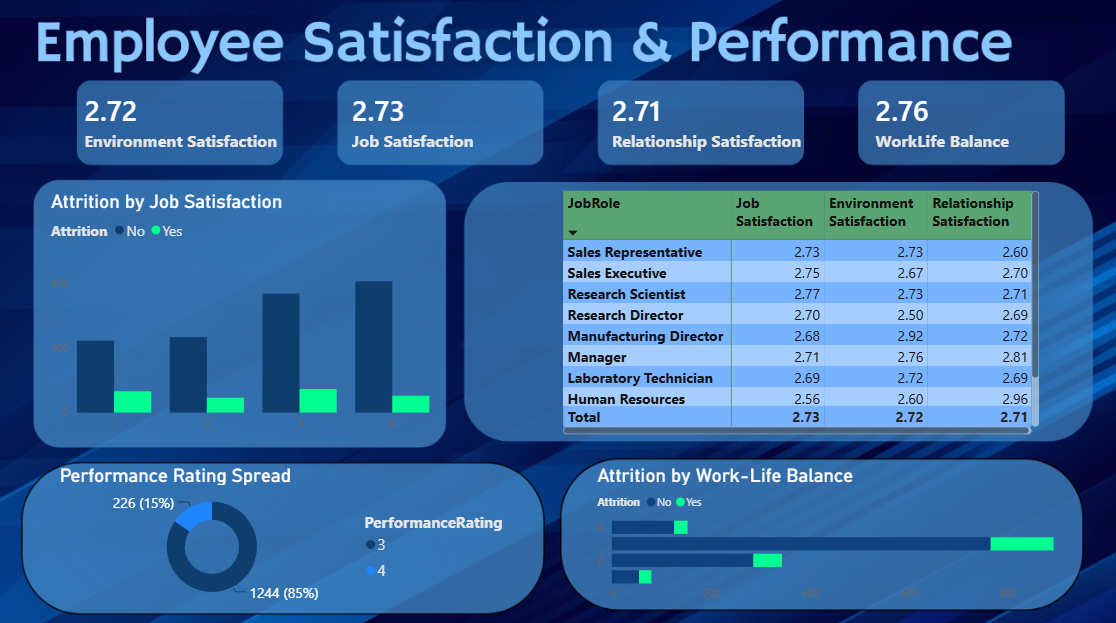

What the dashboard file says about the page in this screenshot:
{"tool":"powerbi","page":{"name":"Satisfaction","canvas":[1280,720],"ordinal":3},"visuals":[{"type":"cardVisual","fields":{"Data":["ibm_data dim_employee.Avg Job Satisfaction"]},"box":[374.3,0,280,280],"z":0},{"type":"cardVisual","fields":{"Data":["Avg(ibm_data fact_satisfaction.EnvironmentSatisfaction)"]},"box":[68.7,0,293.3,280],"z":1000},{"type":"cardVisual","fields":{"Data":["Avg(ibm_data fact_satisfaction.RelationshipSatisfaction)"]},"box":[671.4,64.3,280,150],"z":2000},{"type":"cardVisual","fields":{"Data":["Avg(ibm_data fact_satisfaction.WorkLifeBalance)"]},"box":[972.9,0,280,280],"z":3000},{"type":"pivotTable","fields":{"Rows":["ibm_data dim_job_role.JobRole"],"Values":["Avg(ibm_data fact_satisfaction.JobSatisfaction)","Avg(ibm_data fact_satisfaction.EnvironmentSatisfaction)","Avg(ibm_data fact_satisfaction.RelationshipSatisfaction)"]},"box":[640,214,554,288],"z":4000},{"type":"clusteredColumnChart","title":"Attrition by Job Satisfaction","fields":{"Category":["ibm_data fact_satisfaction.JobSatisfaction"],"Y":["ibm_data dim_employee.Total Employees"],"Series":["ibm_data fact_tenure.Attrition"]},"box":[54.3,218.6,442.9,284.3],"z":5000},{"type":"donutChart","title":"Performance Rating Spread","fields":{"Category":["ibm_data fact_satisfaction.PerformanceRating"],"Y":["ibm_data dim_employee.Total Employees"]},"box":[64.3,531.4,521.4,165.7],"z":6000},{"type":"barChart","title":"Attrition by Work-Life Balance","fields":{"Category":["ibm_data fact_satisfaction.WorkLifeBalance"],"Series":["ibm_data fact_tenure.Attrition"],"Y":["ibm_data dim_employee.Total Employees"]},"box":[678.6,531.4,545.7,165.7],"z":7000}]}

Visuals, with their boxes in screenshot pixels (x1, y1, x2, y2), scaled from the page's 1280x720 canvas onto the 1116x623 screenshot:
cardVisual - ibm_data dim_employee.Avg Job Satisfaction: rect(326, 0, 570, 242)
cardVisual - Avg(ibm_data fact_satisfaction.EnvironmentSatisfaction): rect(60, 0, 316, 242)
cardVisual - Avg(ibm_data fact_satisfaction.RelationshipSatisfaction): rect(585, 56, 830, 185)
cardVisual - Avg(ibm_data fact_satisfaction.WorkLifeBalance): rect(848, 0, 1092, 242)
pivotTable - ibm_data dim_job_role.JobRole x Avg(ibm_data fact_satisfaction.JobSatisfaction): rect(558, 185, 1041, 434)
"Attrition by Job Satisfaction" clusteredColumnChart: rect(47, 189, 433, 435)
"Performance Rating Spread" donutChart: rect(56, 460, 511, 603)
"Attrition by Work-Life Balance" barChart: rect(592, 460, 1067, 603)
